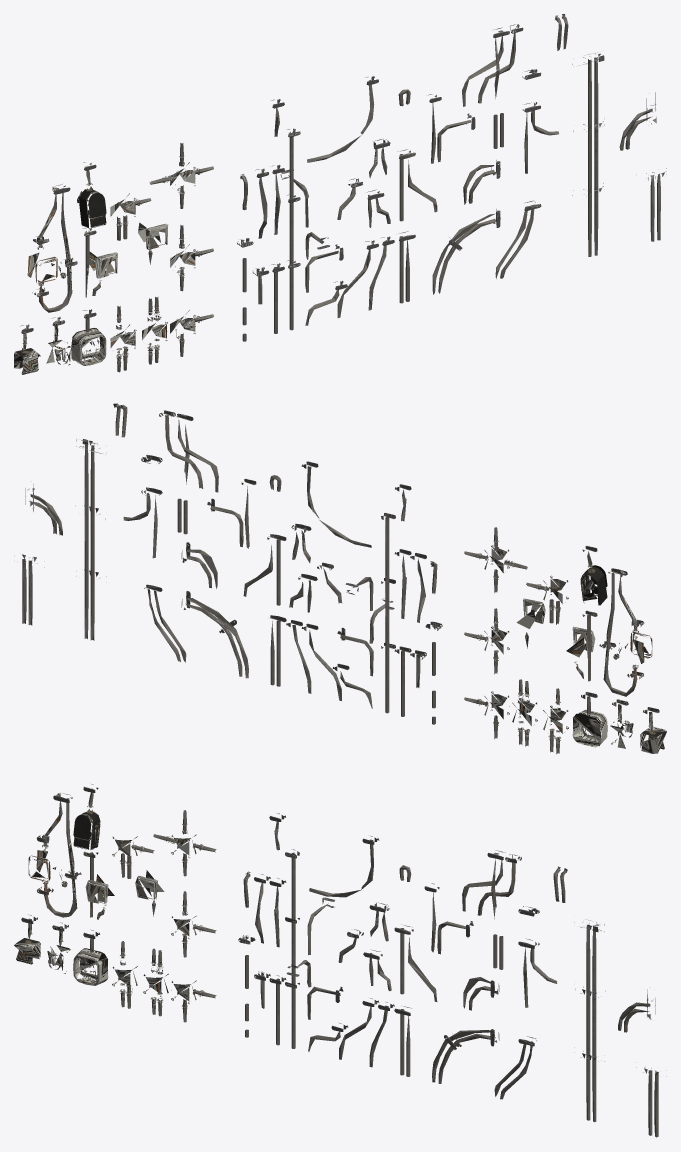
The model's file is ElectricCables.obj.
3 renders of one model, top to bottom at view 1: azimuth 30°, elevation 25°; view 2: azimuth 150°, elevation 25°; view 3: azimuth 330°, elevation 25°, orthographic.
Visible parts, largest first — view 1: part26, part0, part3, part44, part1, part29, part19, part4, part20, part5, part11, part10 (+9 smaller); view 2: part26, part0, part3, part44, part29, part19, part1, part4, part5, part11, part20, part25 (+9 smaller); view 3: part26, part0, part3, part44, part1, part29, part19, part4, part14, part5, part25, part11 (+8 smaller).
Part boxes in pixels (x1=…): part26: x1=572, y1=52, x2=604, y2=256; part0: x1=27, y1=184, x2=77, y2=312; part3: x1=71, y1=309, x2=106, y2=365; part44: x1=286, y1=128, x2=300, y2=330; part1: x1=77, y1=162, x2=106, y2=228; part29: x1=462, y1=24, x2=523, y2=106; part19: x1=432, y1=209, x2=500, y2=294; part4: x1=82, y1=228, x2=117, y2=297; part20: x1=495, y1=200, x2=541, y2=278; part5: x1=14, y1=324, x2=40, y2=374; part11: x1=149, y1=143, x2=213, y2=208; part10: x1=142, y1=296, x2=167, y2=364; part26: x1=75, y1=439, x2=106, y2=640; part0: x1=599, y1=568, x2=652, y2=696; part3: x1=572, y1=692, x2=607, y2=747; part44: x1=381, y1=513, x2=395, y2=713; part29: x1=159, y1=410, x2=218, y2=492; part19: x1=181, y1=591, x2=248, y2=678; part1: x1=580, y1=546, x2=607, y2=605; part4: x1=566, y1=610, x2=597, y2=681; part5: x1=640, y1=707, x2=666, y2=753; part11: x1=464, y1=527, x2=527, y2=593; part20: x1=144, y1=584, x2=186, y2=662; part25: x1=14, y1=554, x2=44, y2=625; part26: x1=574, y1=919, x2=605, y2=1122; part0: x1=28, y1=793, x2=81, y2=917; part3: x1=73, y1=929, x2=108, y2=985; part44: x1=285, y1=849, x2=299, y2=1048; part1: x1=73, y1=783, x2=100, y2=849; part29: x1=462, y1=850, x2=521, y2=919; part19: x1=432, y1=1029, x2=499, y2=1083; part4: x1=83, y1=849, x2=114, y2=919; part14: x1=394, y1=924, x2=437, y2=1001; part5: x1=14, y1=914, x2=40, y2=964; part25: x1=636, y1=1062, x2=666, y2=1137; part11: x1=153, y1=810, x2=216, y2=876.
Size of the model in its own units: 2.08 by 0.7573 by 0.2145.
2 materials, 2 textured.
